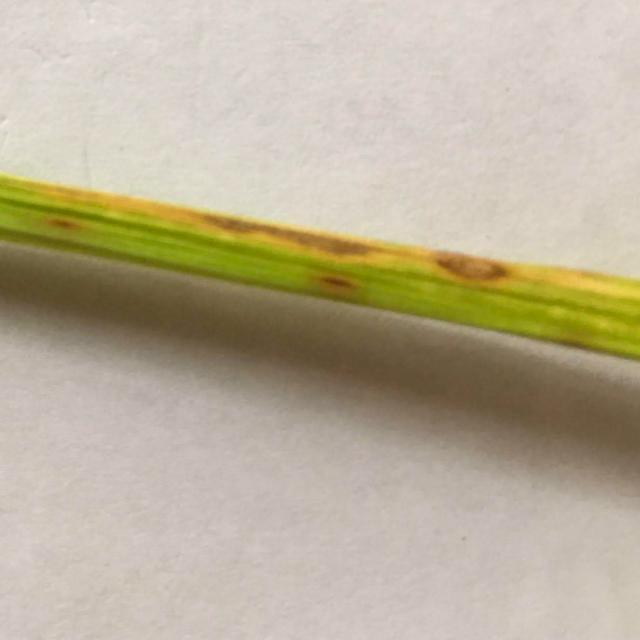Blast: (436, 262, 502, 284), (312, 272, 358, 298), (312, 238, 363, 256), (262, 230, 304, 248), (54, 215, 86, 233), (215, 218, 248, 235)
